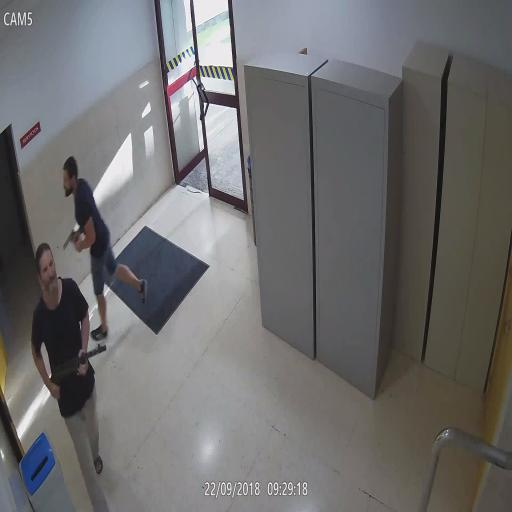Handgun: (62, 226, 81, 252)
